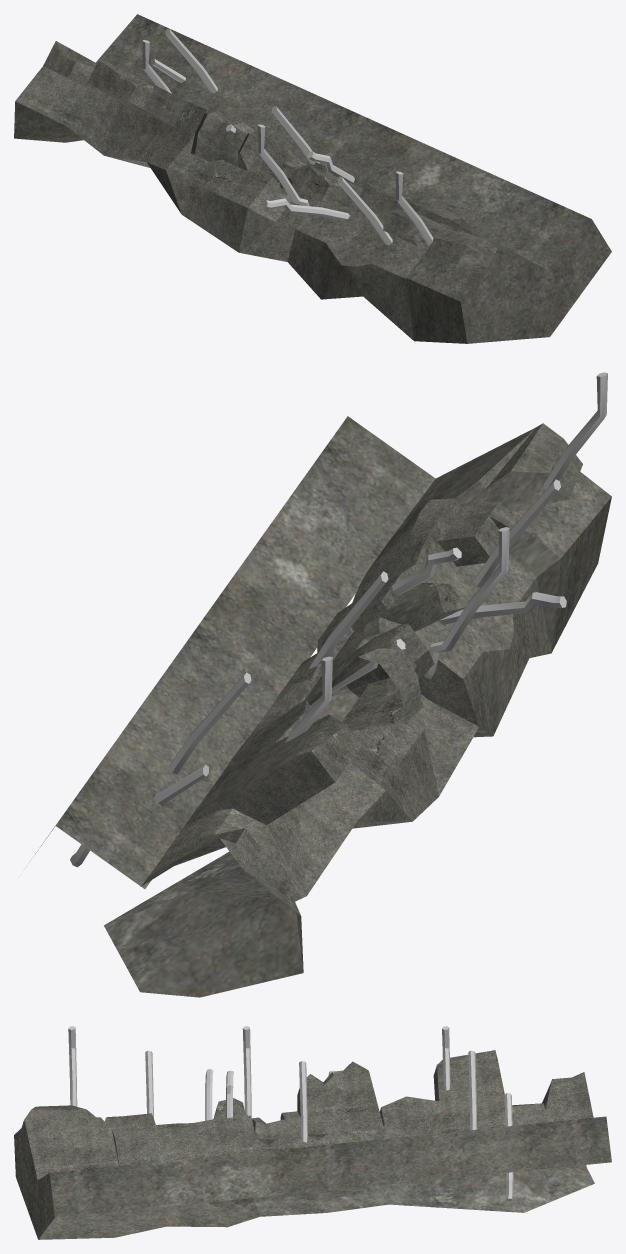
File: Prop_debris_01.fbx
3 views of the same model, one above another, from view 1: azimuth 30°, elevation 25°; view 2: azimuth 150°, elevation 25°; view 3: azimuth 270°, elevation 25° (orthographic). The views are drawn at different scales.
Parts seen in each view (by area): view 1: Cylinder_033; view 2: Cylinder_033; view 3: Cylinder_033.
Boxes of the visible parts, bbox=[...] form: Cylinder_033: bbox=[14, 14, 611, 343]; Cylinder_033: bbox=[31, 372, 611, 997]; Cylinder_033: bbox=[14, 1026, 611, 1239].
Size of the model in its own units: 5.23 by 3.09 by 10.54.
